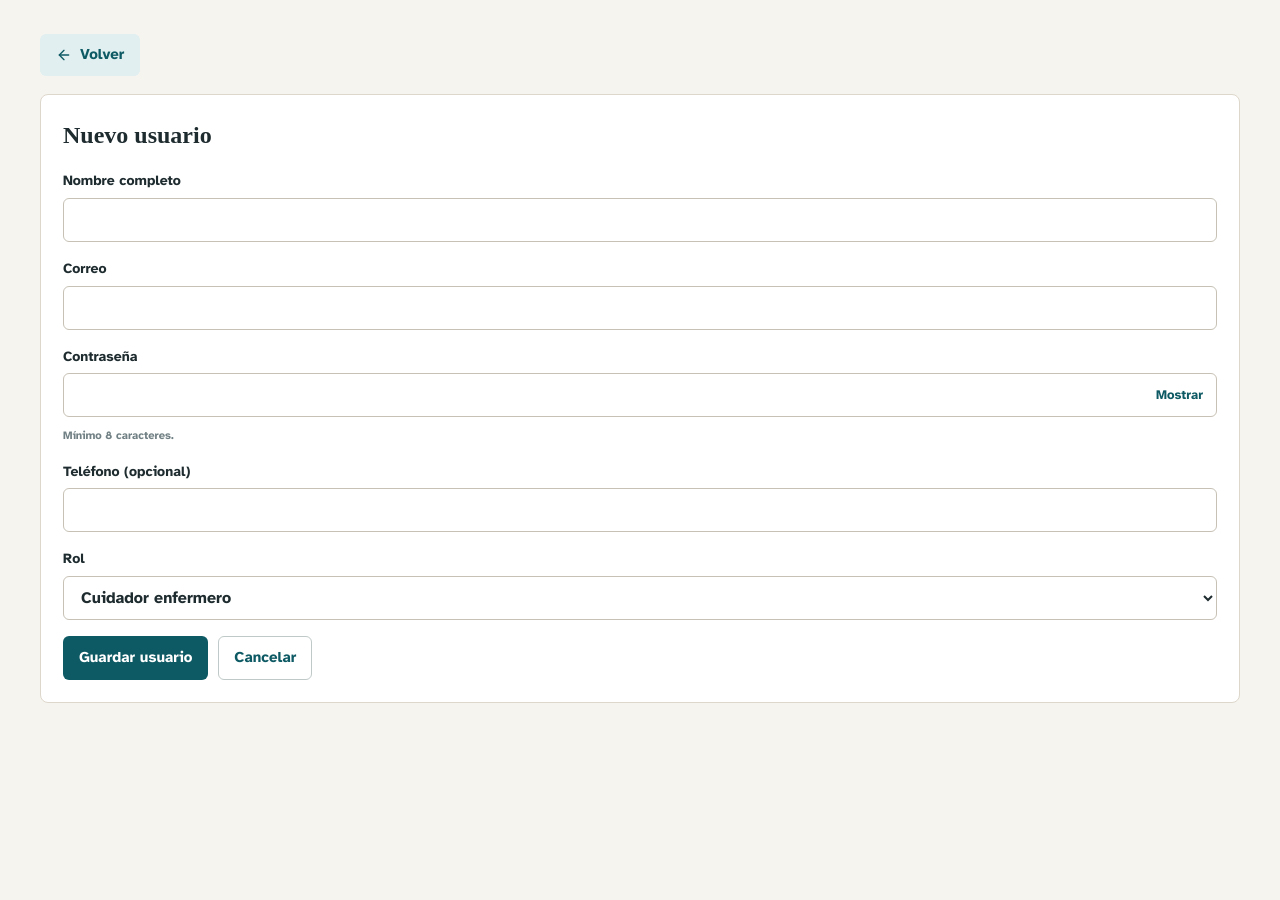
FormularioUsuario › valida los campos obligatorios antes de enviar
Click the button "Guardar usuario": (136, 658) [63, 636, 208, 680]
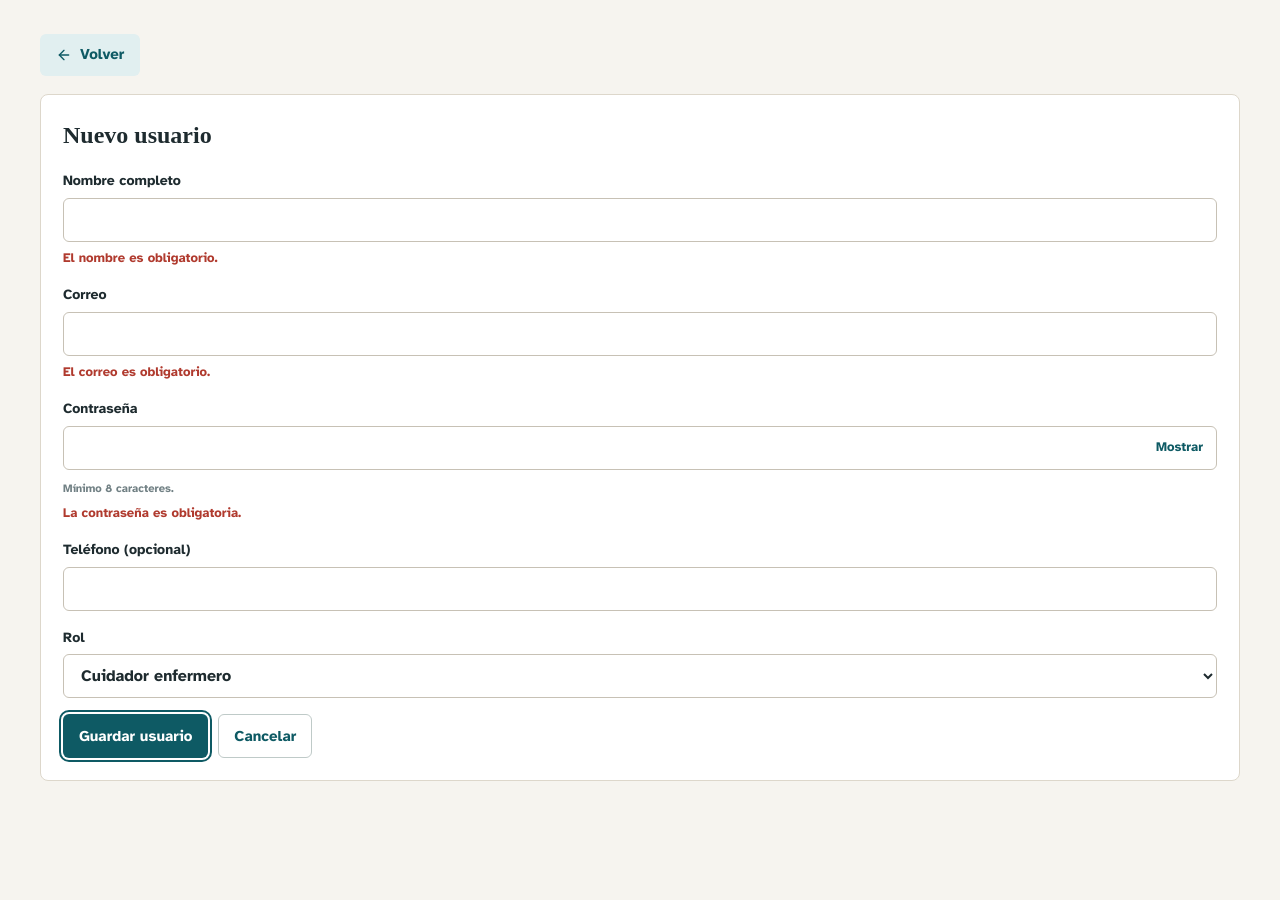
Expected: the text "El nombre es obligatorio." is shown, [63, 250, 218, 266]
Expected: the text "El correo es obligatorio." is shown, [63, 364, 210, 380]
Expected: the text "La contraseña es obligatoria." is shown, [63, 505, 241, 521]
